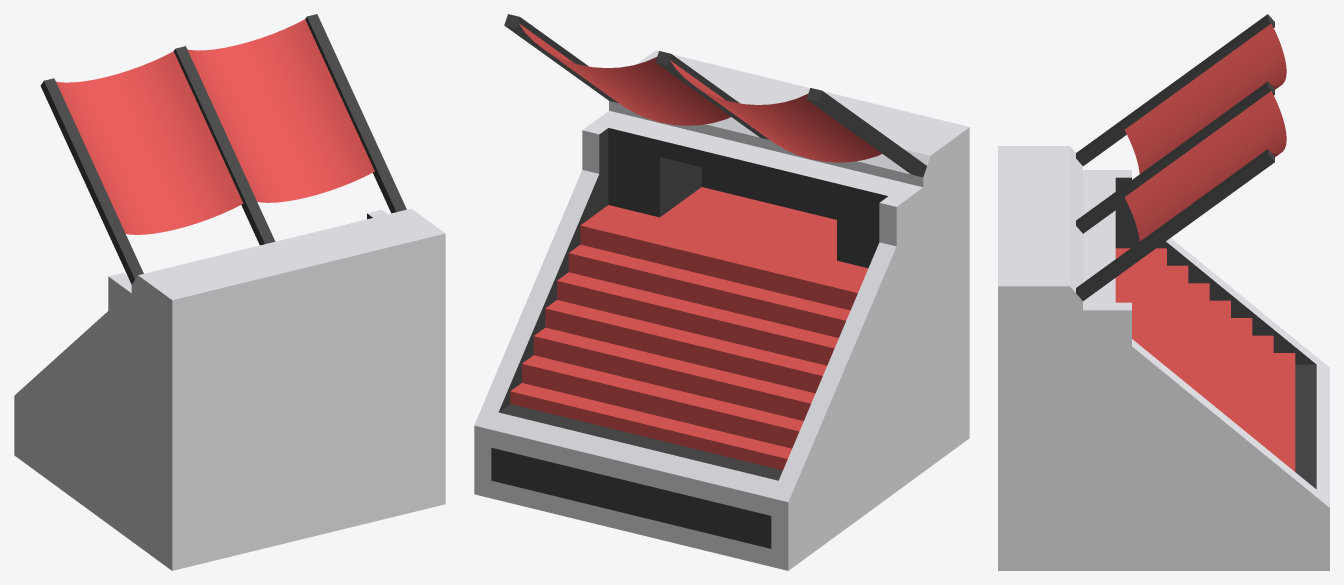
File: grandStandAwning.obj
The picture shows the model from 3 angles, left to right: view 1: azimuth 30°, elevation 25°; view 2: azimuth 150°, elevation 25°; view 3: azimuth 270°, elevation 25°; orthographic projection. The views are drawn at different scales.
Visible parts, largest first — view 1: grandStandAwning; view 2: grandStandAwning; view 3: grandStandAwning.
Boxes of the visible parts, left/top/right/bottom form: grandStandAwning: left=14, top=14, right=445, bottom=570; grandStandAwning: left=474, top=14, right=969, bottom=570; grandStandAwning: left=998, top=14, right=1329, bottom=570.
Size of the model in its own units: 1 by 1.39 by 1.
